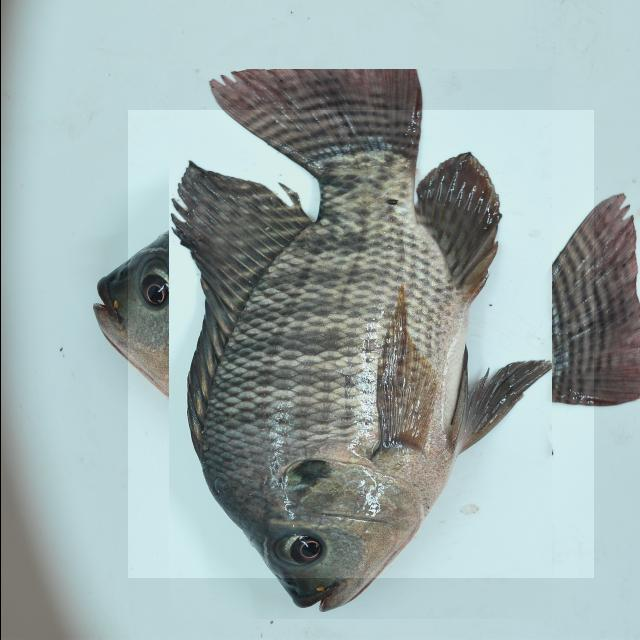Healthy Fish: (127, 110, 593, 578)
